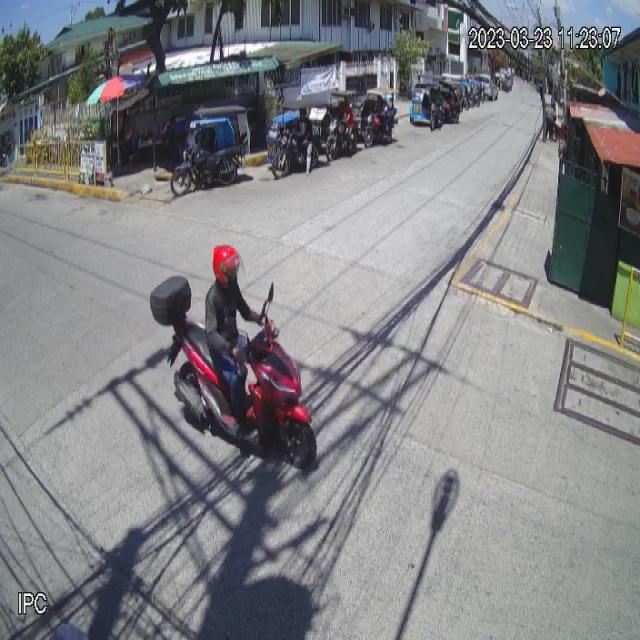Motorcycle: (150, 273, 318, 471)
Tricycle: (170, 104, 253, 197)
